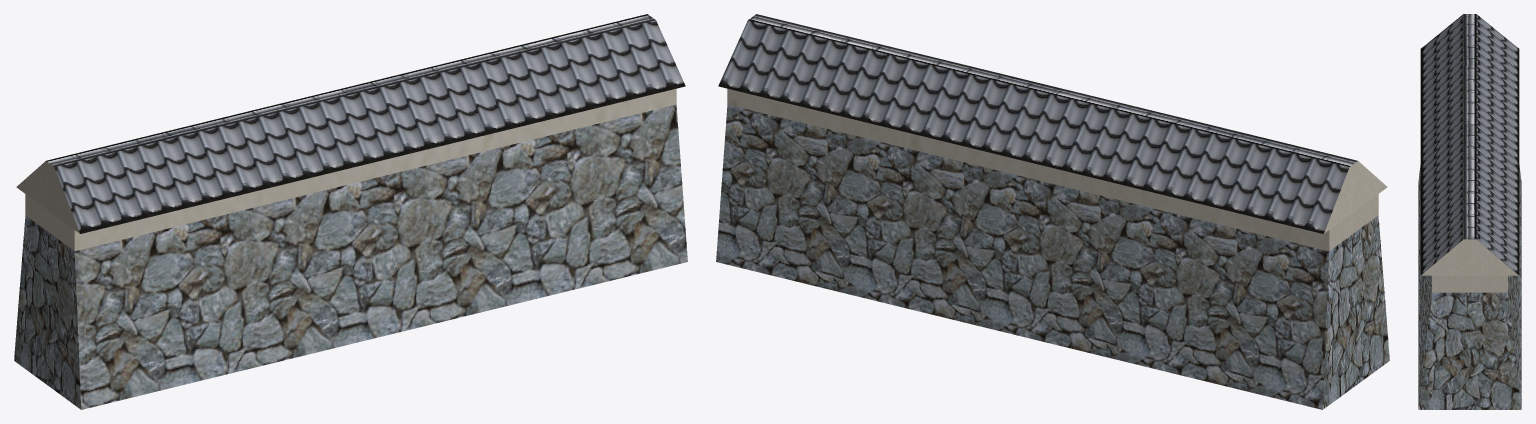
File: honmaru_ishigaki.fbx
3 renders of one model, left to right at view 1: azimuth 30°, elevation 25°; view 2: azimuth 150°, elevation 25°; view 3: azimuth 270°, elevation 25°, orthographic. The views are drawn at different scales.
Visible parts, largest first — view 1: 立方体; view 2: 立方体; view 3: 立方体.
Part boxes in pixels (x1,y1,x2,y2): 立方体: (14, 14, 687, 409); 立方体: (716, 14, 1389, 409); 立方体: (1418, 14, 1521, 409).
Size of the model in its own units: 137 by 47.76 by 26.34.
Materials: 3 (3 with a texture image).
